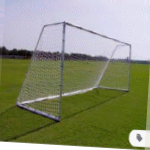goals: (15, 20, 134, 122)
